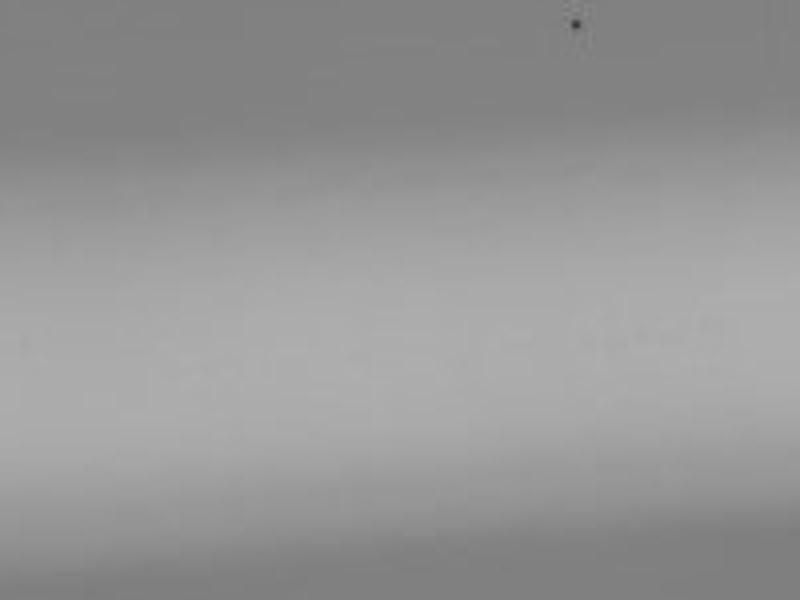defect: (564, 16, 585, 34)
